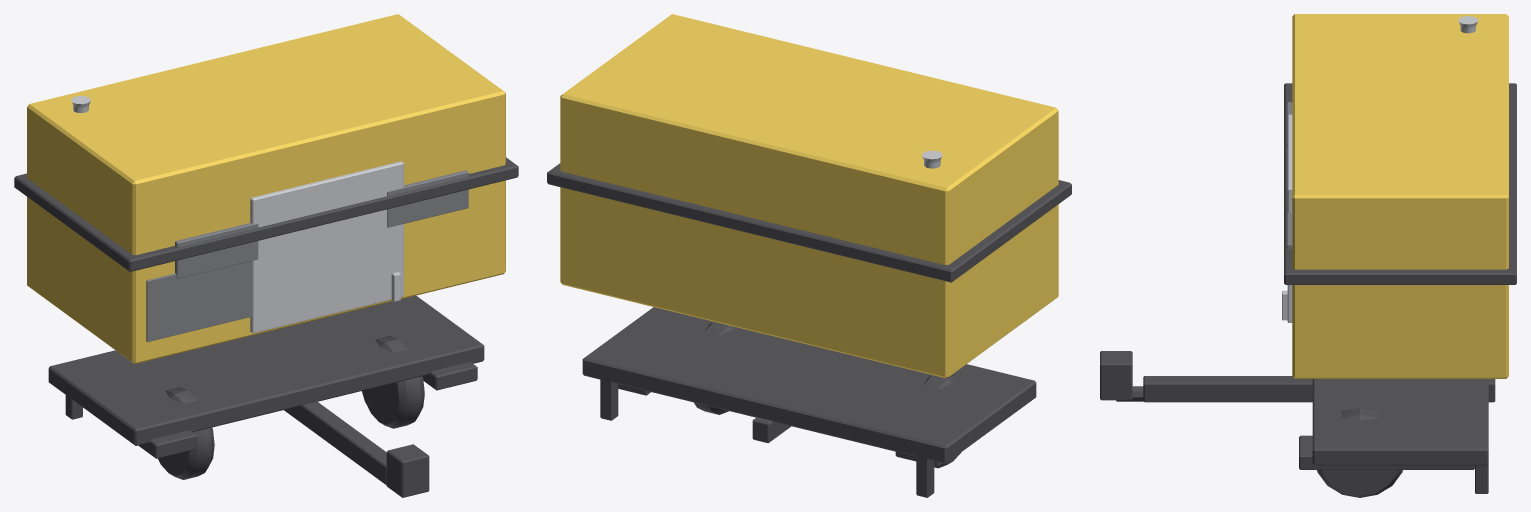
The model's file is live-music-venue-and-festival-stage-generator-trailer-354a33e9.glb.
The picture shows the model from 3 angles, left to right: view 1: azimuth 30°, elevation 25°; view 2: azimuth 150°, elevation 25°; view 3: azimuth 270°, elevation 25°; orthographic projection. The views are drawn at different scales.
Visible parts, largest first — view 1: generator-trailer, door; view 2: generator-trailer; view 3: generator-trailer, door.
Part boxes in pixels (left/top/right/bottom): generator-trailer: left=14, top=14, right=518, bottom=497; door: left=250, top=161, right=403, bottom=333; generator-trailer: left=547, top=14, right=1071, bottom=497; generator-trailer: left=1100, top=14, right=1516, bottom=497; door: left=1282, top=114, right=1292, bottom=322.
Size of the model in its own units: 3.34 by 2.84 by 3.08.
